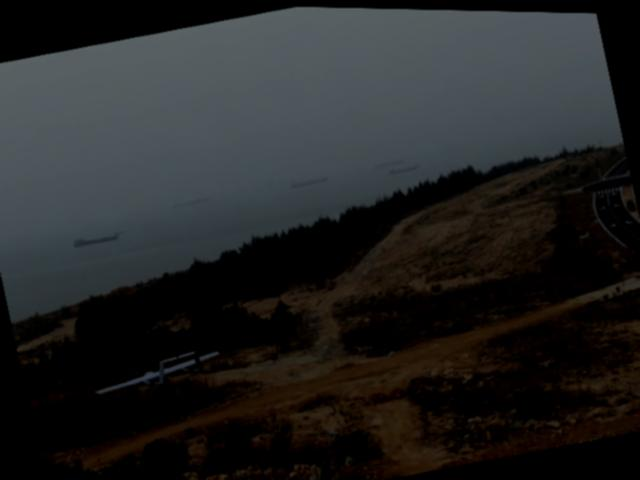plane: (90, 341, 228, 412)
